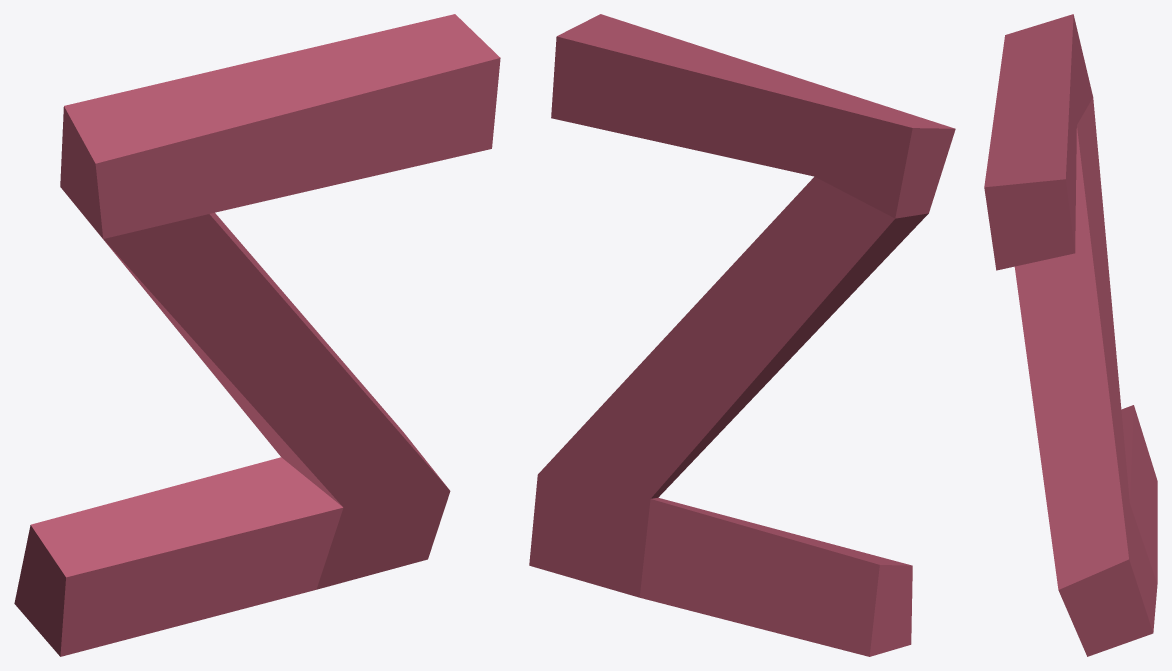
The picture shows the model from 3 angles, left to right: view 1: azimuth 30°, elevation 25°; view 2: azimuth 150°, elevation 25°; view 3: azimuth 270°, elevation 25°; orthographic projection. The views are drawn at different scales.
Visible parts, largest first — view 1: mesh_Z; view 2: mesh_Z; view 3: mesh_Z.
Boxes of the visible parts, x1,y1,x2,y2 form: mesh_Z: [14, 14, 500, 656]; mesh_Z: [529, 14, 955, 656]; mesh_Z: [984, 14, 1157, 656].
Bounding box in the file's own units: 56.31 × 75.46 × 24.39.
